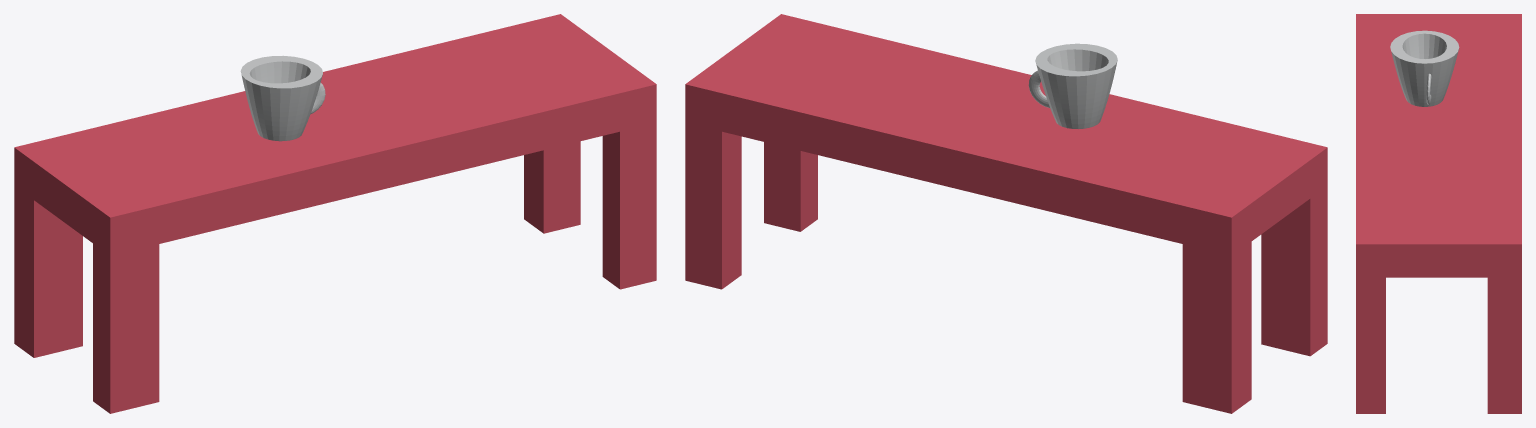
The model's file is coffee table model.glb.
3 views of the same model, side by side, from view 1: azimuth 30°, elevation 25°; view 2: azimuth 150°, elevation 25°; view 3: azimuth 270°, elevation 25° (orthographic). The views are drawn at different scales.
Visible parts, largest first — view 1: Mesh_Mesh_head_geo.001_lambert2SG.001; view 2: Mesh_Mesh_head_geo.001_lambert2SG.001; view 3: Mesh_Mesh_head_geo.001_lambert2SG.001.
Part boxes in pixels (<box>): Mesh_Mesh_head_geo.001_lambert2SG.001: <box>14,14,656,413</box>; Mesh_Mesh_head_geo.001_lambert2SG.001: <box>685,14,1327,413</box>; Mesh_Mesh_head_geo.001_lambert2SG.001: <box>1356,14,1521,413</box>.
Size of the model in its own units: 134 by 61.53 by 40.78.
